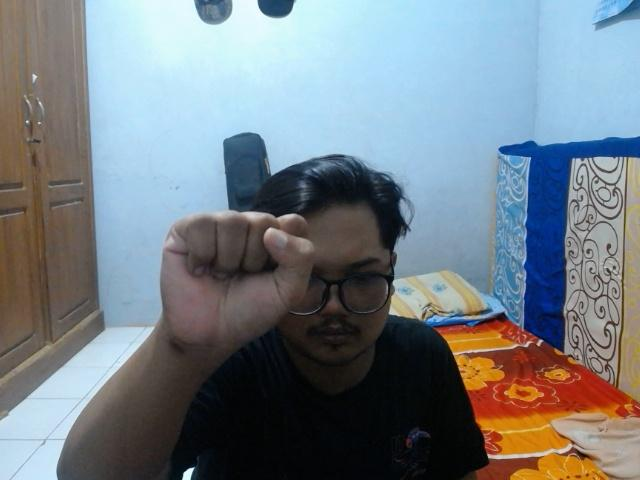Grab: (154, 201, 320, 358)
